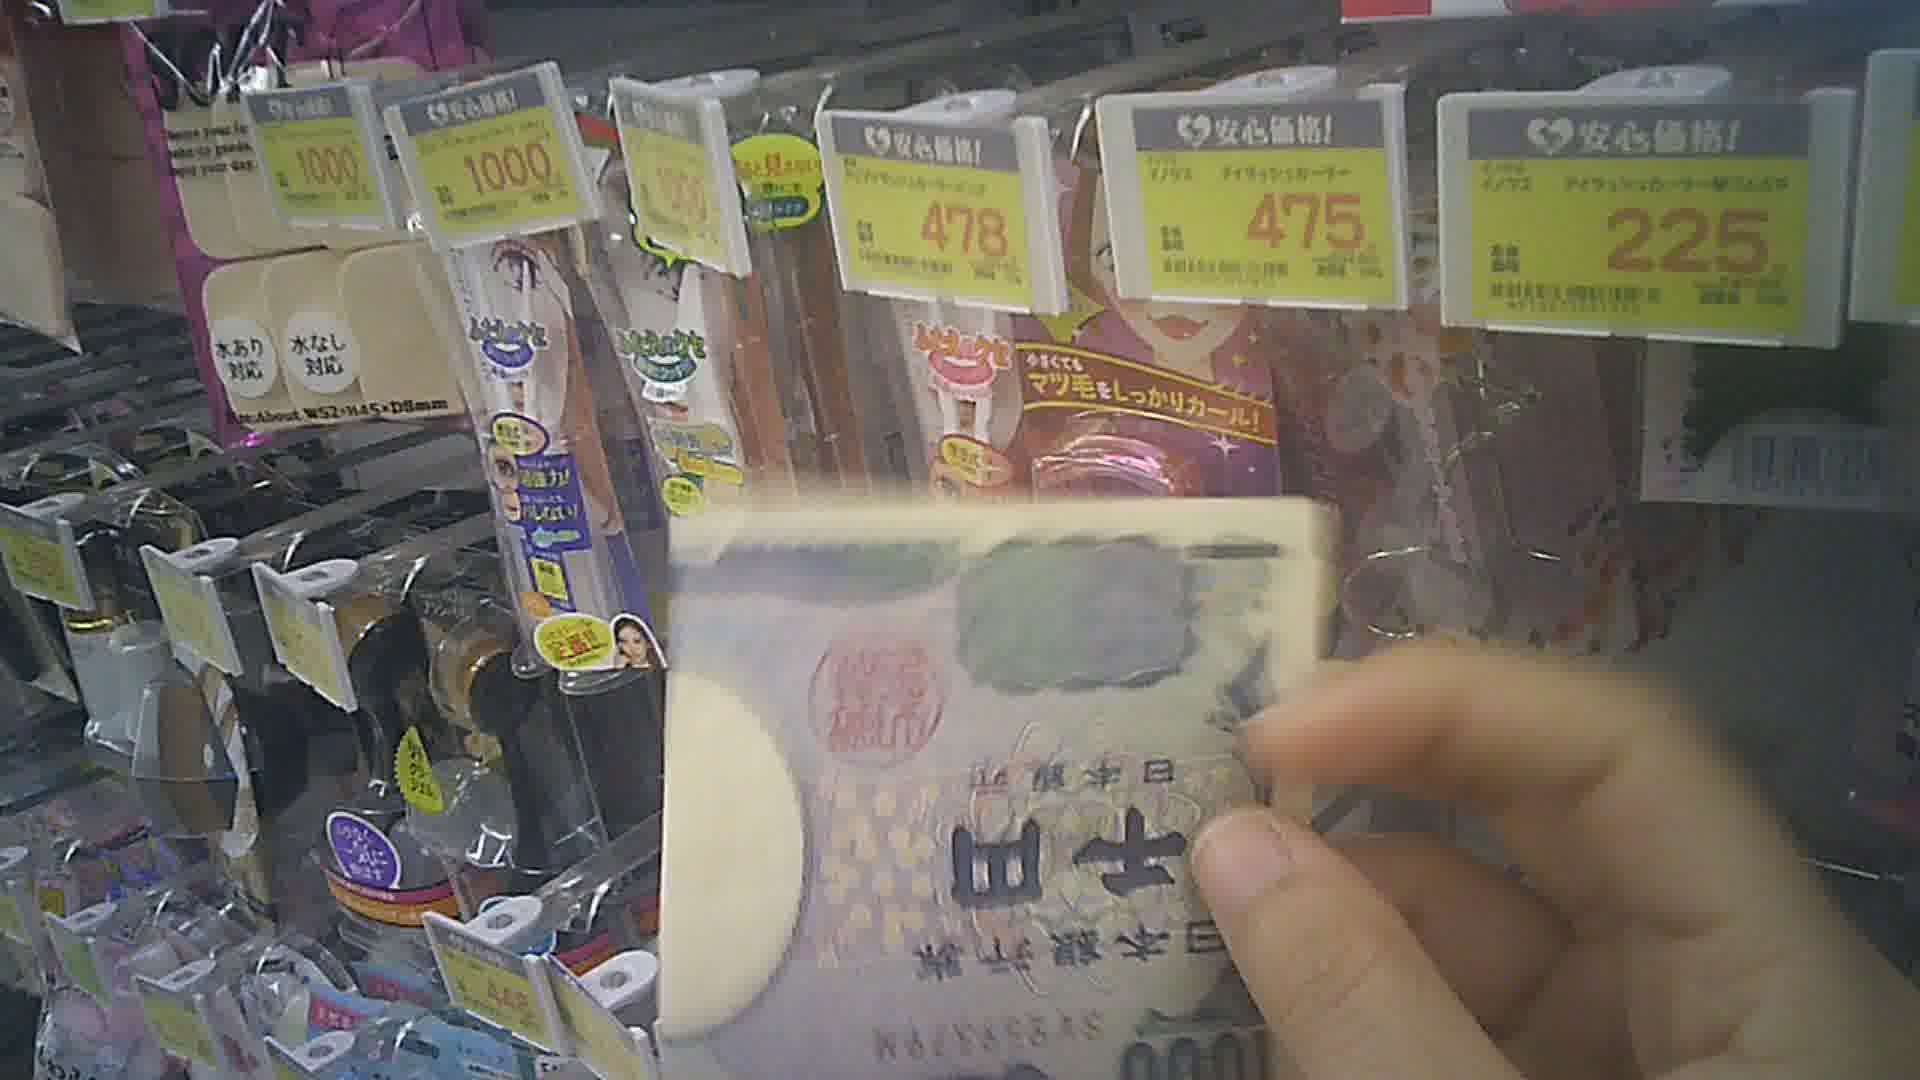1,000 Yen: (651, 481, 1309, 1079)
